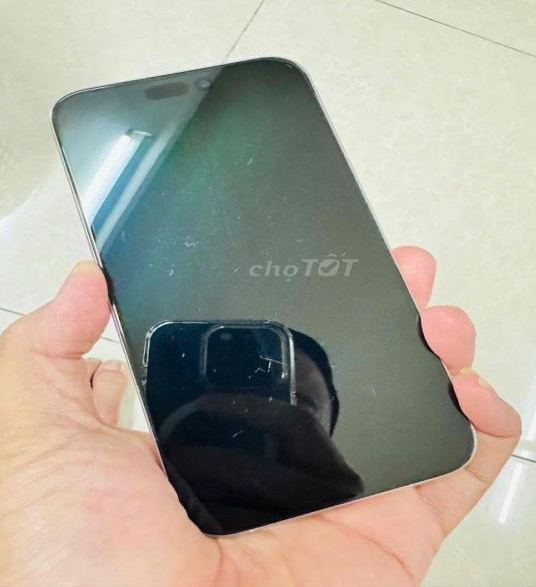scratch: (242, 348, 316, 394), (161, 230, 215, 268), (210, 142, 269, 171), (117, 210, 144, 247), (365, 382, 399, 408), (222, 427, 249, 450), (287, 52, 301, 83), (171, 350, 190, 372)
